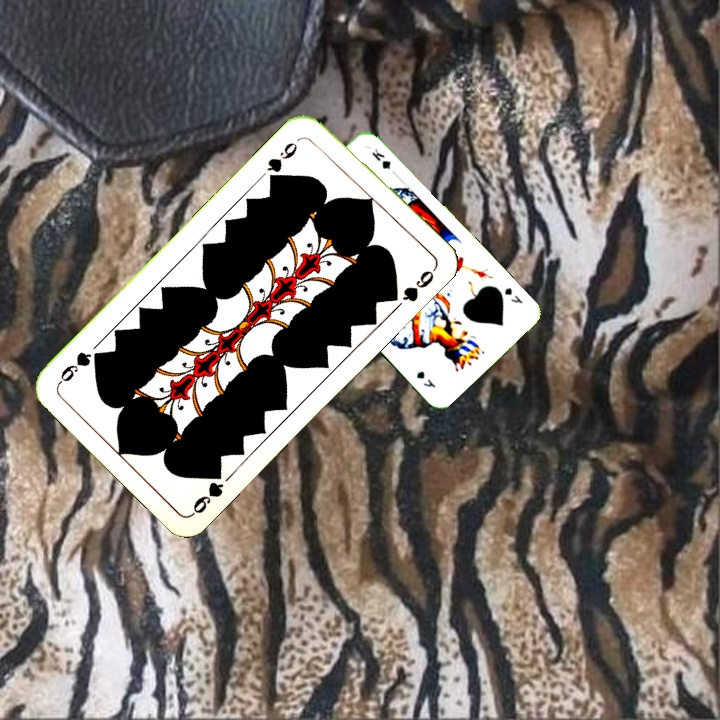G9: (263, 133, 305, 185), (188, 463, 227, 518)
GK: (500, 283, 526, 306)
